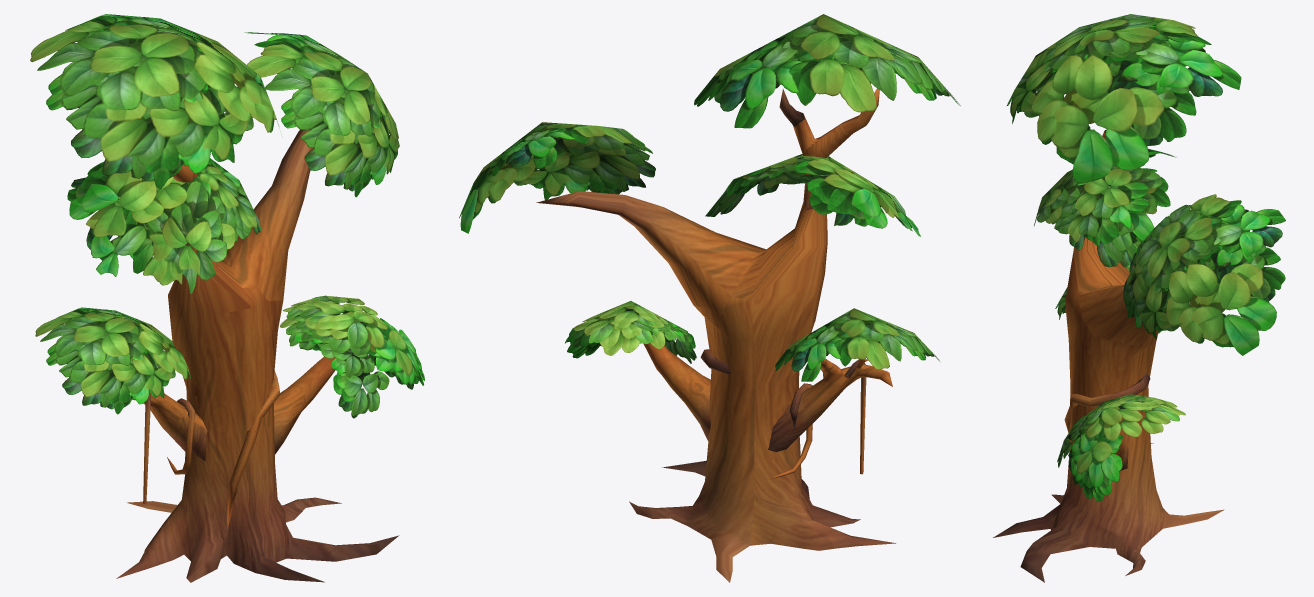
Rendered from shu02.FBX.
The picture shows the model from 3 angles, left to right: view 1: azimuth 30°, elevation 25°; view 2: azimuth 150°, elevation 25°; view 3: azimuth 270°, elevation 25°; orthographic projection. The views are drawn at different scales.
Parts seen in each view (by area): view 1: Sphere03, Cylinder152; view 2: Cylinder152, Sphere03; view 3: Sphere03, Cylinder152.
Part boxes in pixels (bbox=[...]): Sphere03: bbox=[30, 14, 424, 418]; Cylinder152: bbox=[116, 130, 399, 582]; Cylinder152: bbox=[536, 88, 895, 582]; Sphere03: bbox=[459, 14, 960, 381]; Sphere03: bbox=[1007, 14, 1285, 501]; Cylinder152: bbox=[993, 130, 1224, 582].
Size of the model in its own units: 546 by 667 by 399.
